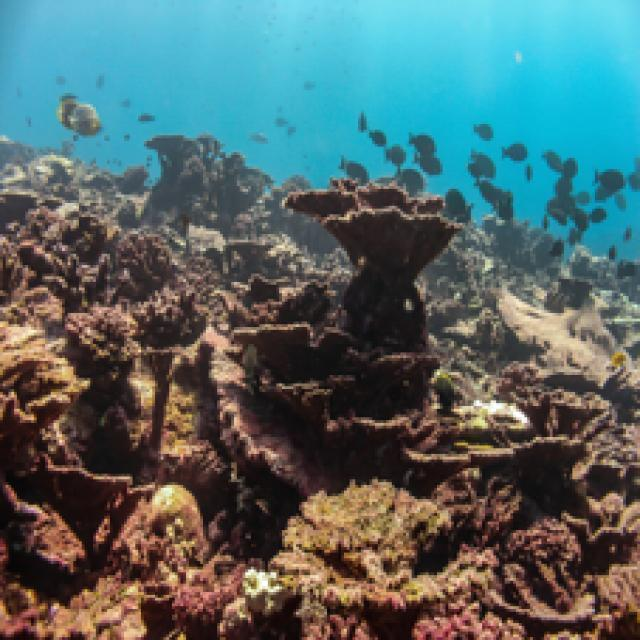Dead Coral: (274, 159, 472, 325), (45, 170, 204, 370)
